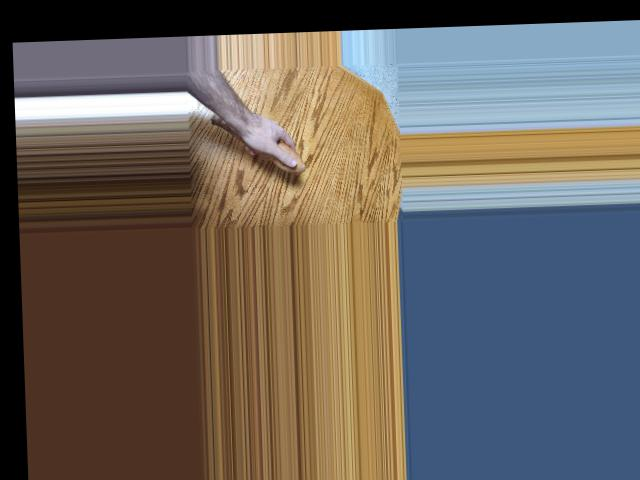sweet_potato: (208, 109, 306, 176)
